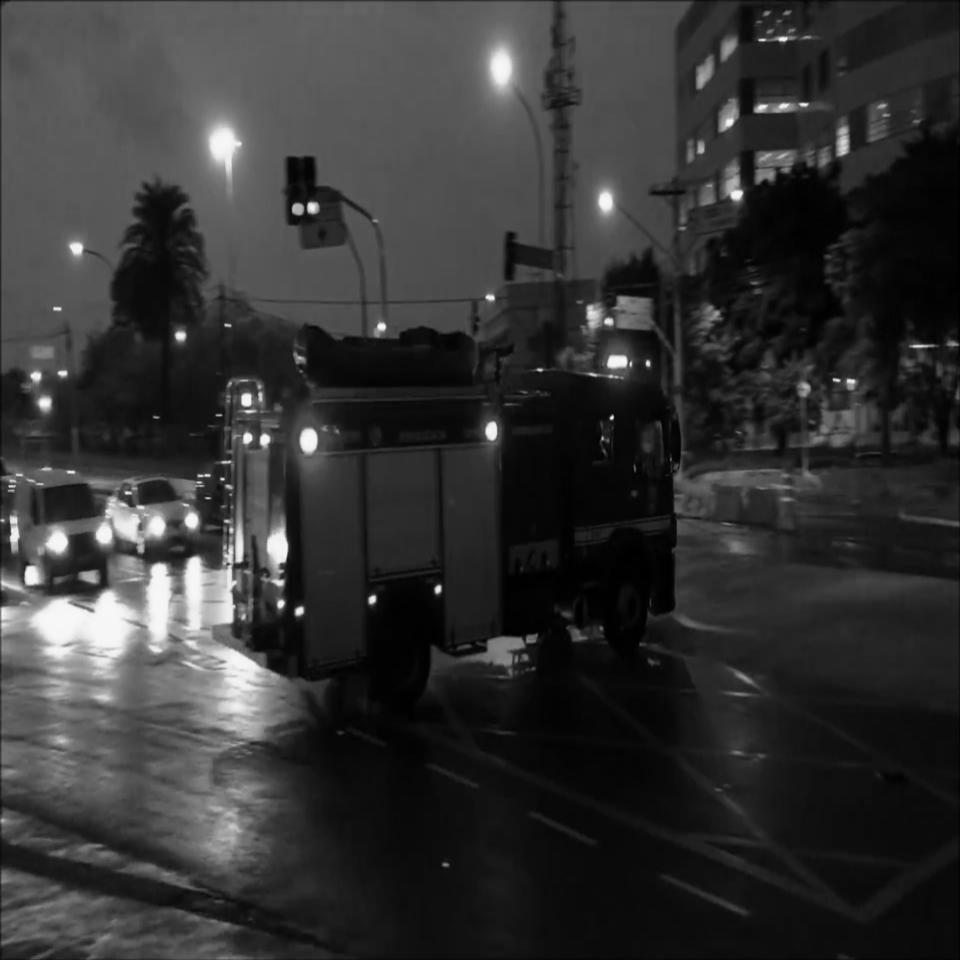bombeiro: (221, 321, 686, 710)
